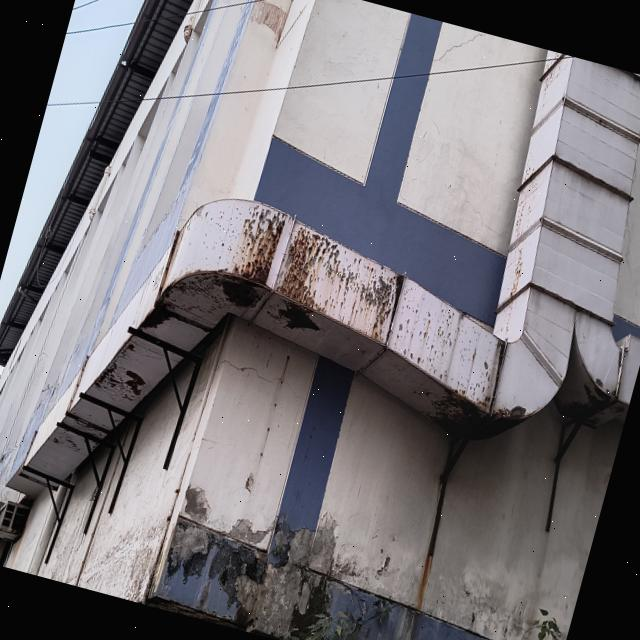crack: (432, 31, 489, 62)
peeling: (235, 512, 335, 637), (170, 519, 208, 561), (225, 518, 272, 545), (183, 485, 211, 523)
stain_mould: (274, 221, 402, 342), (171, 534, 266, 619), (424, 389, 532, 440), (222, 202, 288, 284), (160, 272, 266, 323), (90, 342, 147, 406), (274, 300, 319, 330)
